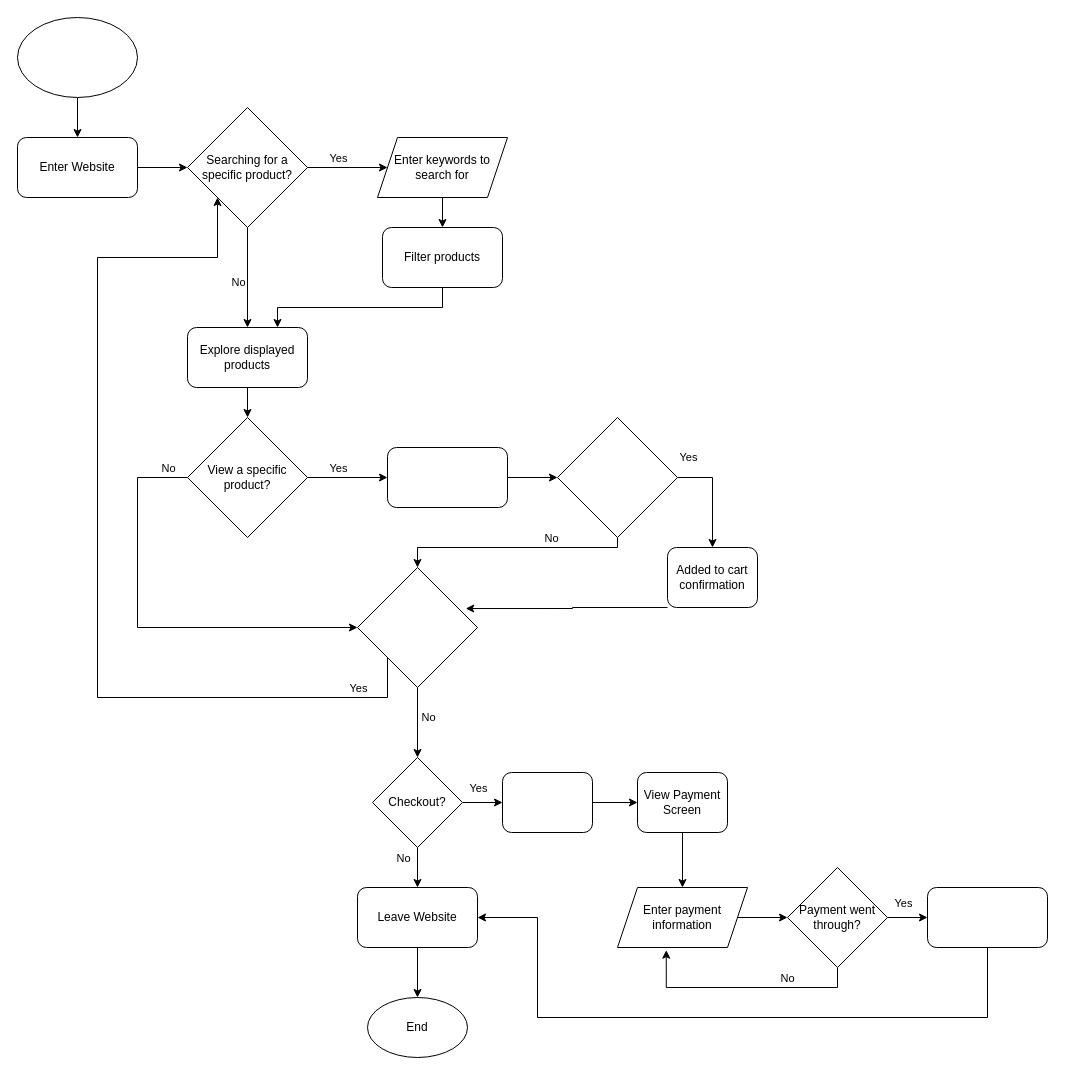
The diagram is 1065 pixels wide and 1075 high, and some of its shapes have lost their labels. The centre of each missing label's shape, as x and y in pixels:
Add to cart?: point (617, 477)
Continue Shopping?: point (417, 627)
Open product's webpage: point (447, 477)
Order confirmation and email sent: point (987, 917)
Start: point (77, 57)
View Cart Screen: point (547, 802)
